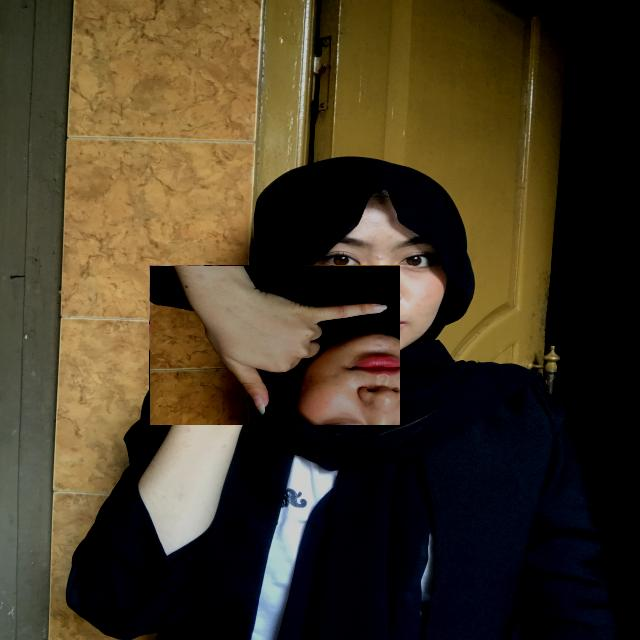telpon: (149, 265, 400, 425)
